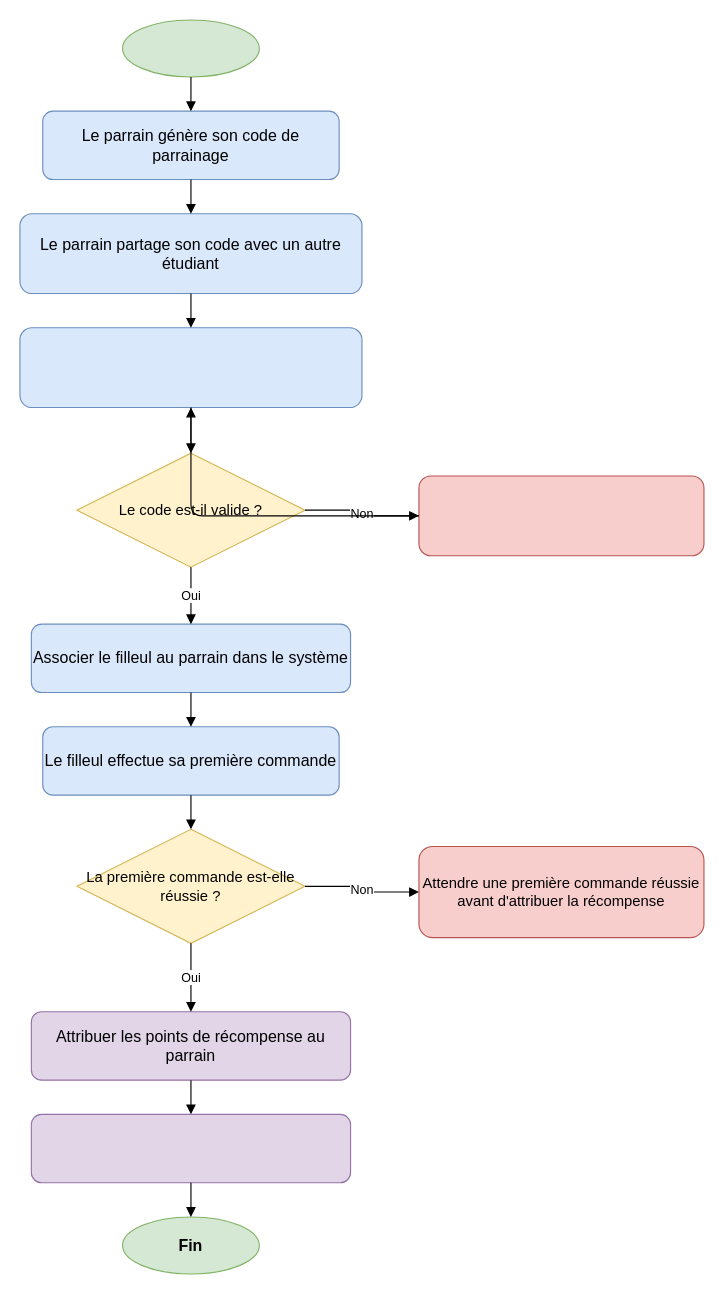
Some shapes in this 724 by 1294 pixel diagram are drawn without their labels. The box of each missing label's shape, as (x1, y1, x2, y2) in pixels:
Afficher un message d'erreur et demander un code valide: (418, 475, 704, 556)
Début: (121, 19, 259, 77)
Le filleul s'inscrit et saisit le code de parrainage: (19, 327, 362, 408)
Mettre à jour le statut : récompense attribuée: (30, 1113, 351, 1183)
